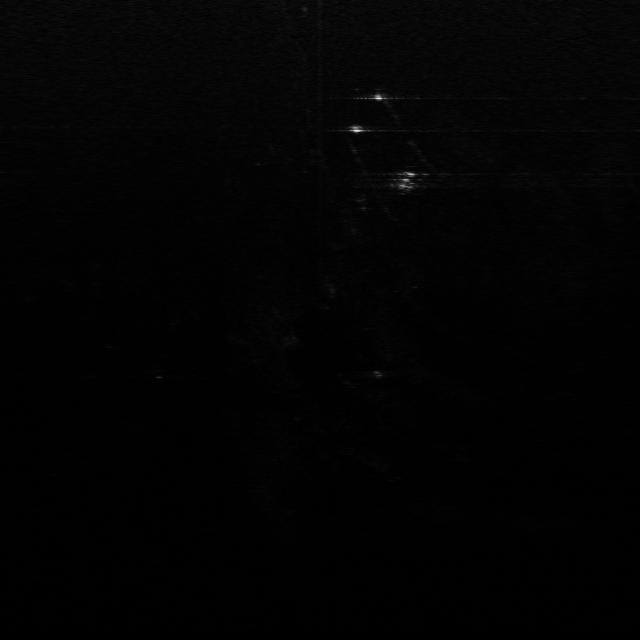rov: (393, 168, 426, 192)
